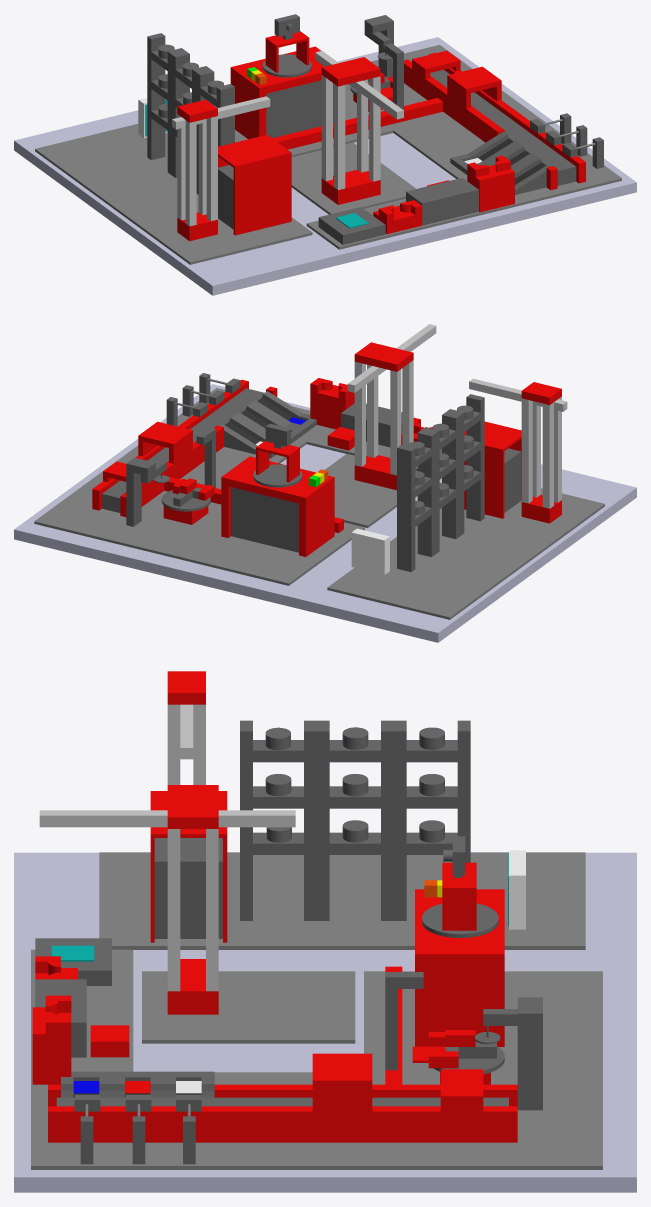
The model's file is factory_modell_elements_named.glb.
3 views of the same model, one above another, from view 1: azimuth 30°, elevation 25°; view 2: azimuth 150°, elevation 25°; view 3: azimuth 270°, elevation 25° (orthographic). The views are drawn at different scales.
Parts seen in each view (by area): view 1: baseplate, hbw_base, sld_mpo_base, hbw_transfer_column_left, vgr_base, mpo_oven, dps_nfc, sld_track, sld_track_barrier_left, mps_track, hbw_column_4, mpo_top_cover (+38 smaller); view 2: baseplate, hbw_base, sld_mpo_base, mpo_base, mpo_oven, vgr_base, hbw_column_4, hbw_column_2, hbw_column_3, mpo_top_cover, mpo_column_left, sld_track (+41 smaller); view 3: baseplate, hbw_base, sld_mpo_base, sld_track_barrier_right, vgr_base, mpo_base, mpo_column_right, hbw_column_3, hbw_column_2, hbw_transfer_box, dps_base, mpo_top_cover (+33 smaller).
Part boxes in pixels (x1,y1,x2,y2): baseplate: (14, 37, 636, 295); hbw_base: (35, 124, 312, 264); sld_mpo_base: (345, 45, 621, 210); hbw_transfer_column_left: (233, 155, 291, 235); vgr_base: (291, 143, 415, 214); mpo_oven: (266, 80, 333, 138); dps_nfc: (406, 178, 478, 225); sld_track: (430, 69, 576, 185); sld_track_barrier_left: (404, 59, 504, 142); mps_track: (272, 98, 442, 149); hbw_column_4: (147, 33, 165, 160); mpo_top_cover: (230, 46, 323, 95); baseplate: (14, 384, 636, 642); hbw_base: (327, 488, 604, 619); sld_mpo_base: (34, 388, 325, 553); mpo_base: (157, 504, 364, 585); mpo_oven: (231, 487, 298, 552); vgr_base: (325, 454, 415, 527); hbw_column_4: (397, 445, 415, 571); hbw_column_2: (442, 409, 464, 538); hbw_column_3: (417, 427, 439, 556); mpo_top_cover: (221, 456, 334, 505); mpo_column_left: (299, 484, 334, 556); sld_track: (102, 388, 264, 512); baseplate: (14, 852, 636, 1192); hbw_base: (99, 852, 585, 949); sld_mpo_base: (31, 1072, 602, 1169); sld_track_barrier_right: (48, 1106, 517, 1142); vgr_base: (142, 971, 355, 1043); mpo_base: (364, 971, 602, 1072); mpo_column_right: (415, 966, 504, 1046); hbw_column_3: (381, 720, 406, 920); hbw_column_2: (304, 720, 329, 920); hbw_transfer_box: (154, 838, 222, 938); dps_base: (31, 949, 133, 1072); mpo_top_cover: (415, 889, 504, 965).
Size of the model in its own units: 0.9 by 0.284 by 0.73.
